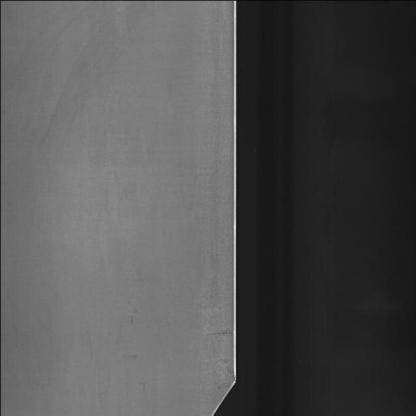crescent_gap: (204, 361, 244, 416)
